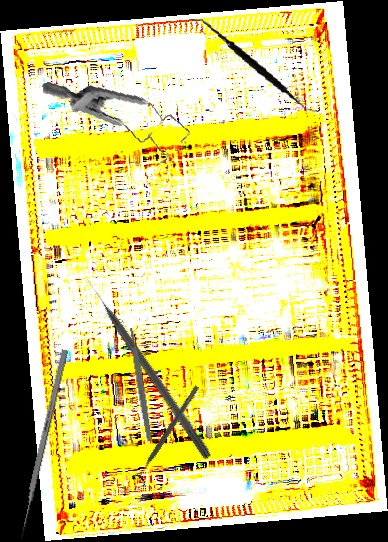Fixation Ring: (130, 382, 205, 487)
Pusher: (83, 275, 215, 461), (17, 349, 69, 540)
Scalpel Handle: (128, 327, 153, 442)
Spatula Surgical: (178, 17, 329, 115)
Speculum: (41, 63, 195, 180)
